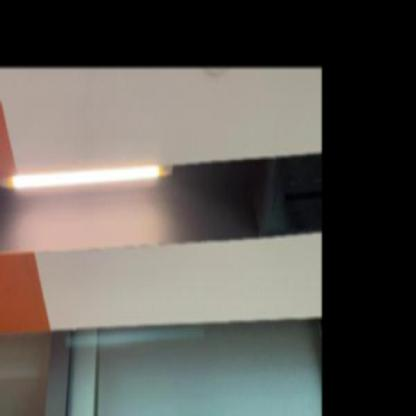light_on: (0, 155, 181, 203)
